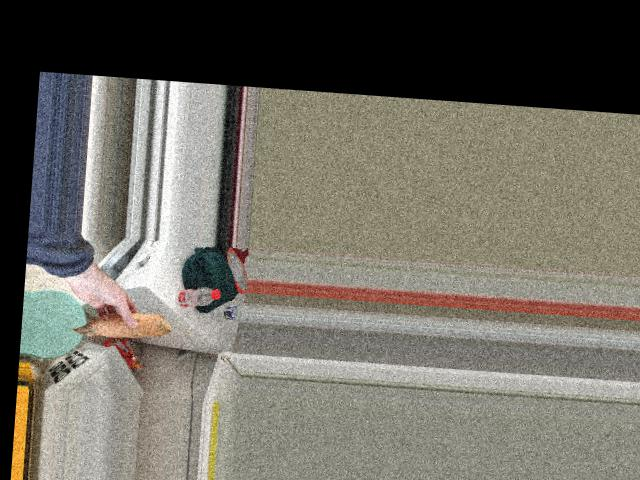sweet_potato: (79, 305, 163, 339)
